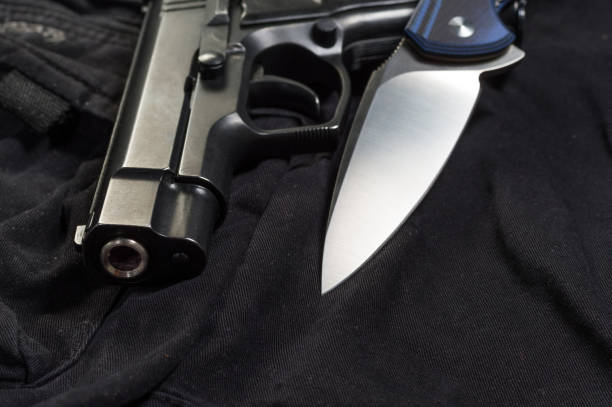gun: (71, 0, 421, 294)
knife: (317, 0, 526, 297)
